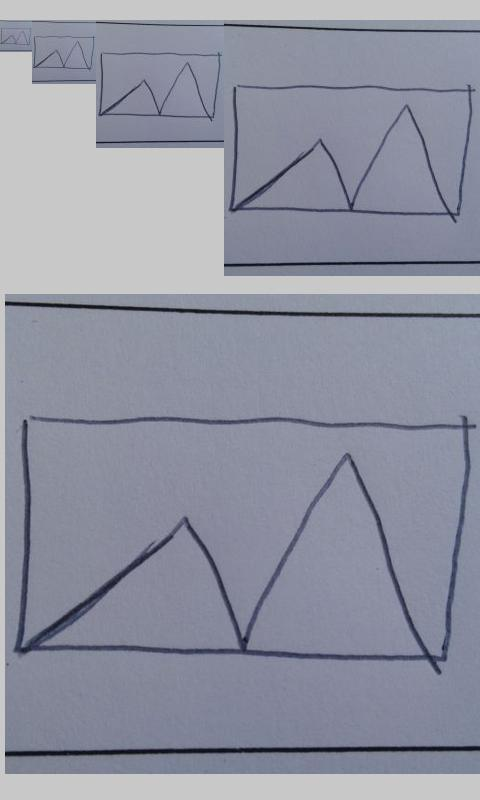image_view: (13, 413, 472, 666), (230, 83, 473, 221), (99, 51, 222, 120), (33, 35, 95, 71), (1, 27, 32, 46)
